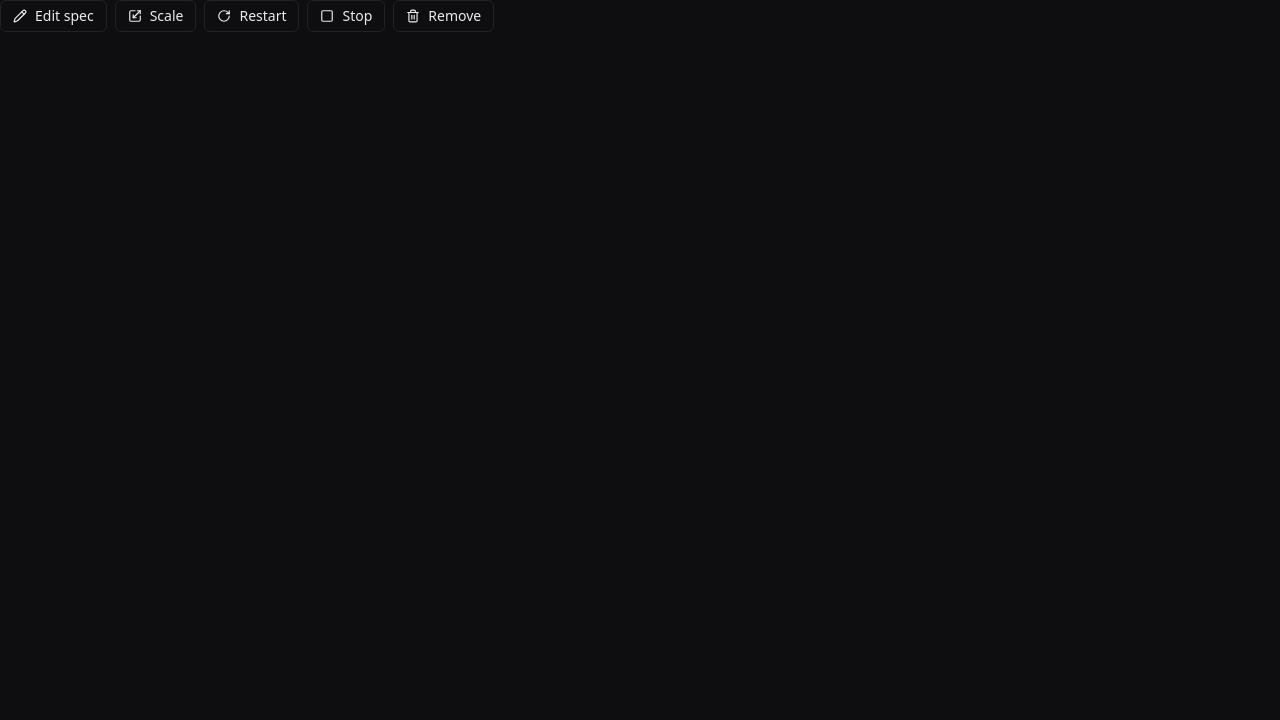
Scenario: ServiceActions scaling › will not go below one: zero is a stop, and Stop owns it
The image size is (1280, 720).
Click the button "Scale".
click(156, 16)  # box [115, 0, 196, 32]
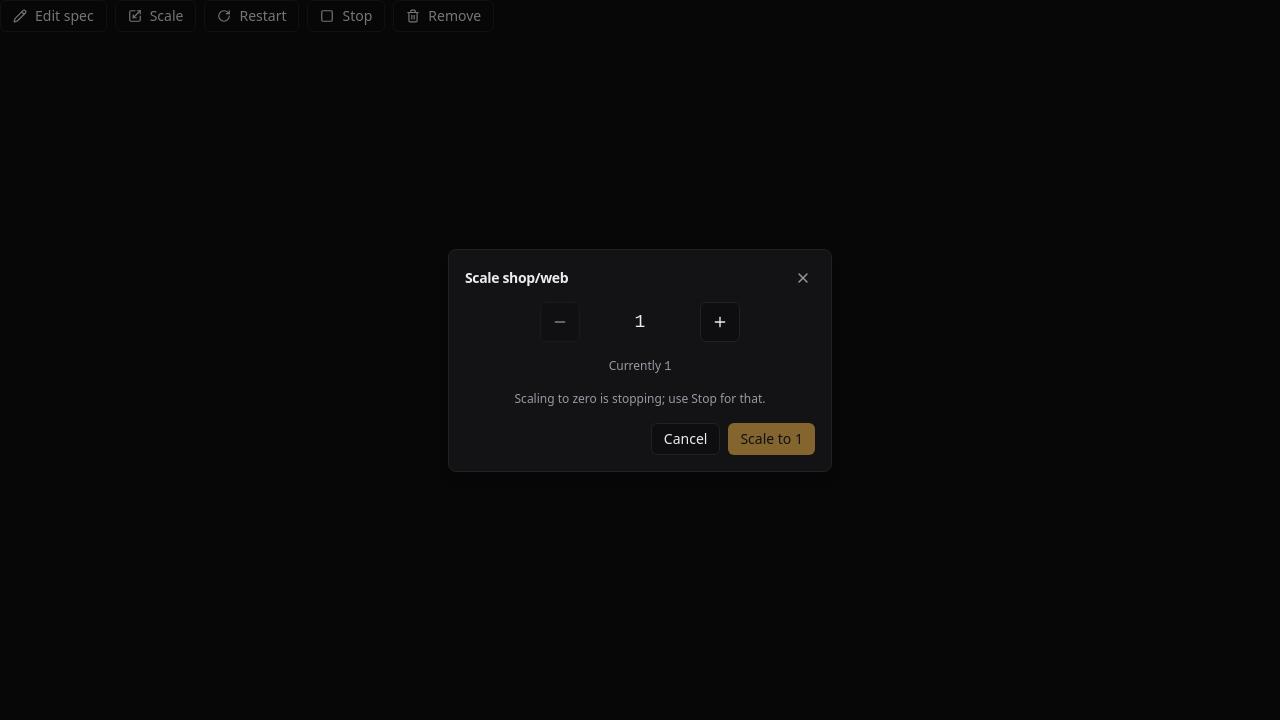
Expected: the button named "Fewer replicas" is disabled, [540, 302, 580, 342]
Result: the text "Scaling to zero is stopping; use Stop for that." is shown at [514, 390, 765, 406]
